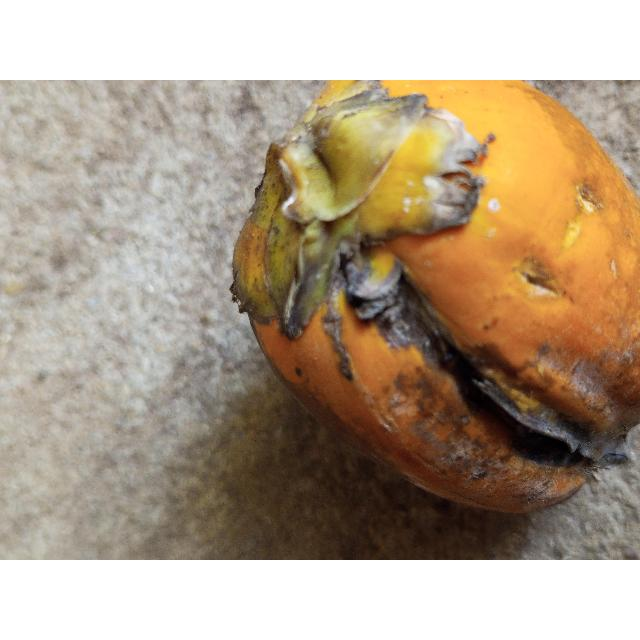damaged: (230, 80, 640, 516)
